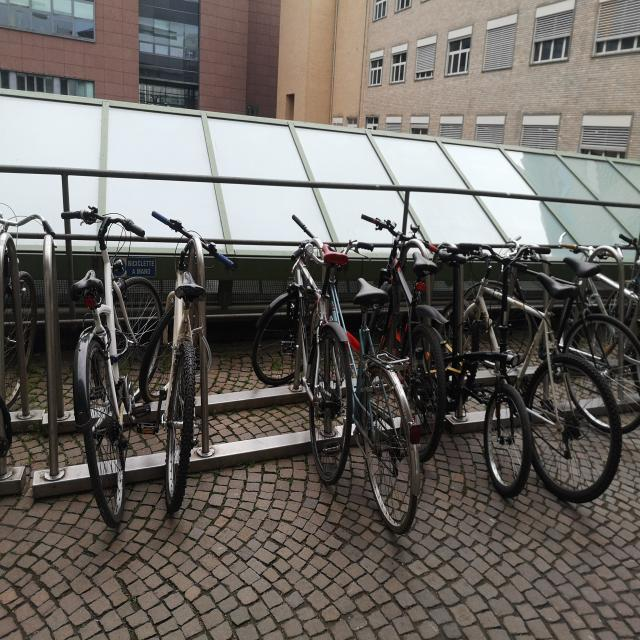Bicycle: (456, 188, 616, 538), (66, 160, 156, 544), (141, 178, 241, 516), (422, 222, 533, 519), (265, 178, 349, 500), (332, 245, 408, 571), (541, 212, 640, 444), (373, 207, 443, 442), (0, 200, 41, 510), (576, 229, 640, 339)
